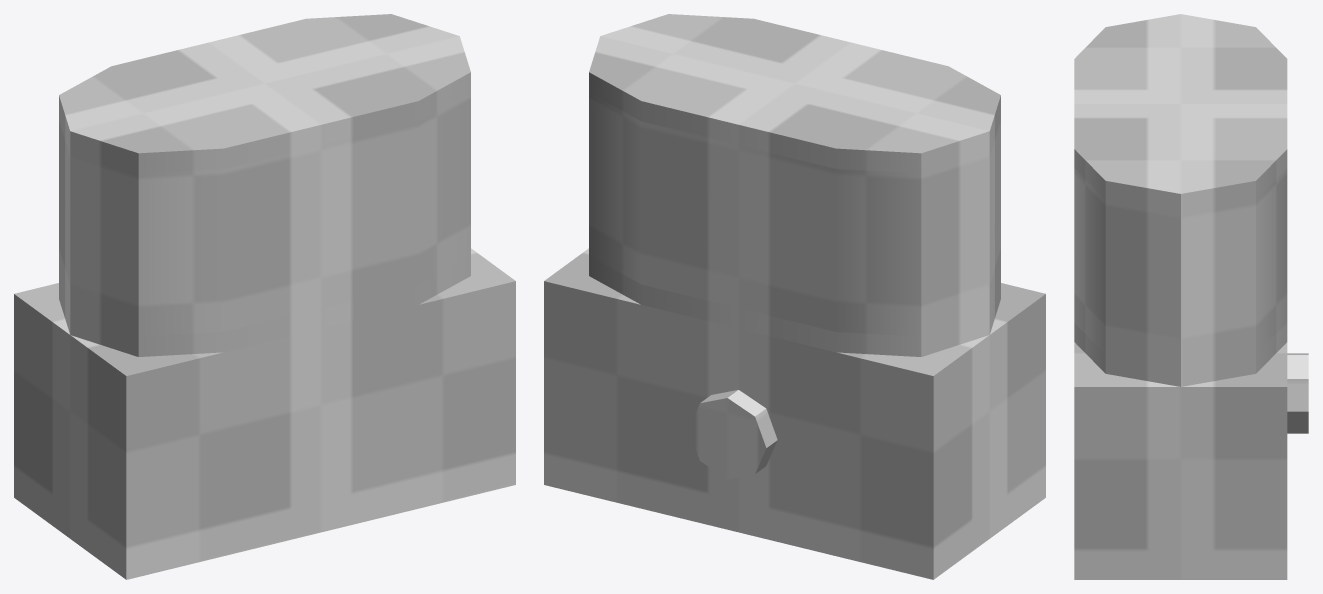
The model's file is LightWorkSmall.fbx.
3 views of the same model, side by side, from view 1: azimuth 30°, elevation 25°; view 2: azimuth 150°, elevation 25°; view 3: azimuth 270°, elevation 25° (orthographic). The views are drawn at different scales.
Visible parts, largest first — view 1: LightWorkSmall; view 2: LightWorkSmall; view 3: LightWorkSmall.
Boxes of the visible parts, x1,y1,x2,y2 form: LightWorkSmall: (14, 14, 515, 579); LightWorkSmall: (544, 14, 1045, 579); LightWorkSmall: (1074, 14, 1308, 579).
Size of the model in its own units: 40 by 40 by 22.
